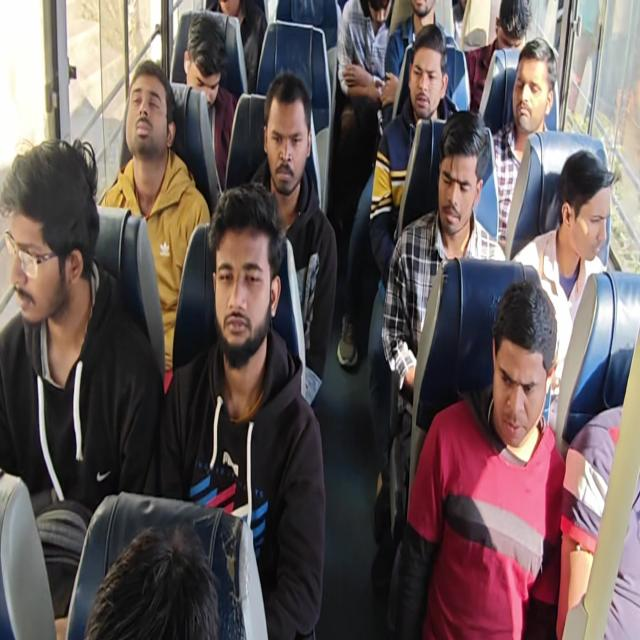person: (89, 535, 224, 640), (0, 166, 85, 322), (220, 210, 276, 368), (558, 149, 620, 273), (488, 324, 548, 444), (430, 116, 479, 226), (118, 65, 172, 159), (264, 93, 314, 194), (182, 22, 224, 109), (507, 56, 543, 134), (407, 34, 439, 113), (492, 0, 528, 58), (208, 0, 249, 28), (353, 0, 393, 22), (409, 0, 433, 19)
